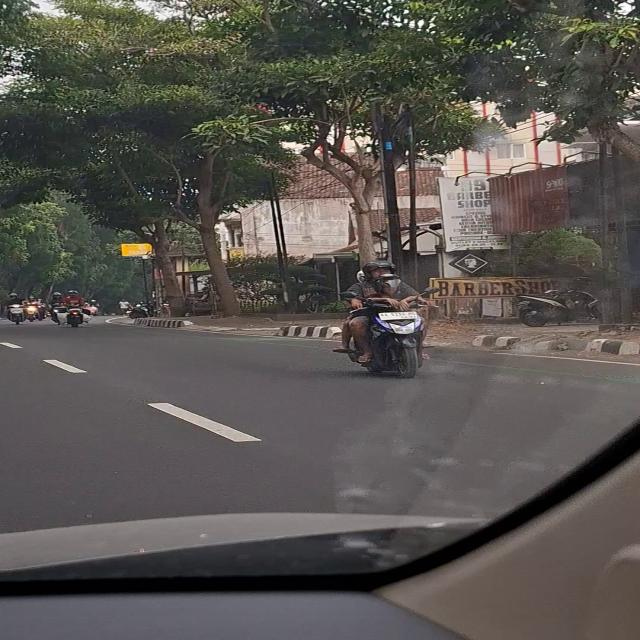WithHelmet: (333, 260, 436, 364), (56, 289, 92, 323), (1, 293, 26, 319), (47, 292, 67, 323)
